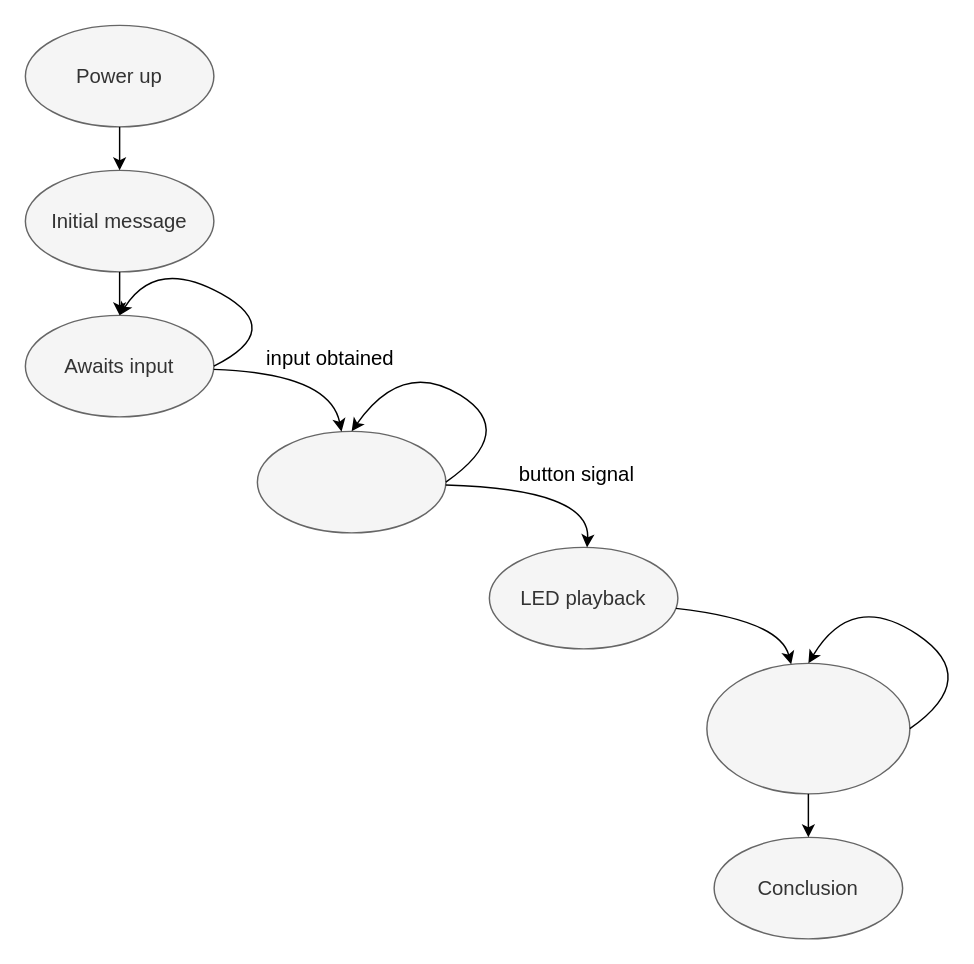
This 974x964 diagram has some shape labels left out. Each missing label, with the box of its shape:
Await button: (256, 430, 446, 533)
Awaits user button input: (705, 662, 910, 794)
